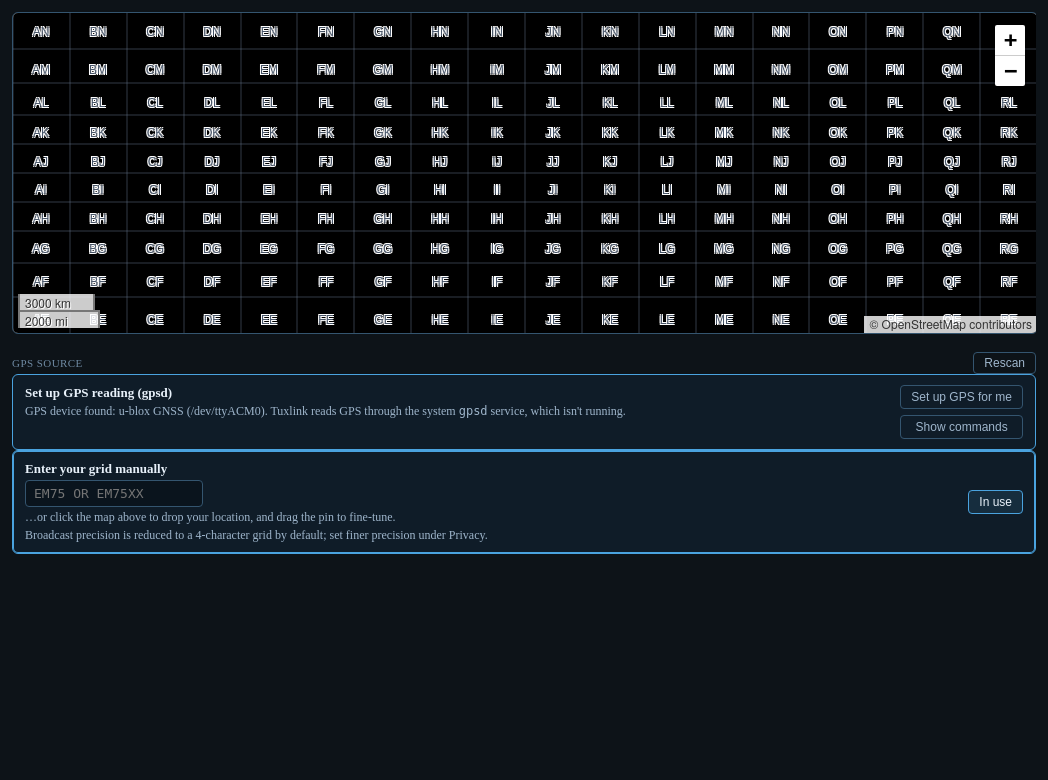
Scenario: GpsSourcePicker › one-click sets up gpsd via pkexec (apt + pkexec present) and rescans
Click the button with test id "gps-setup-run": (962, 397) [900, 385, 1023, 409]
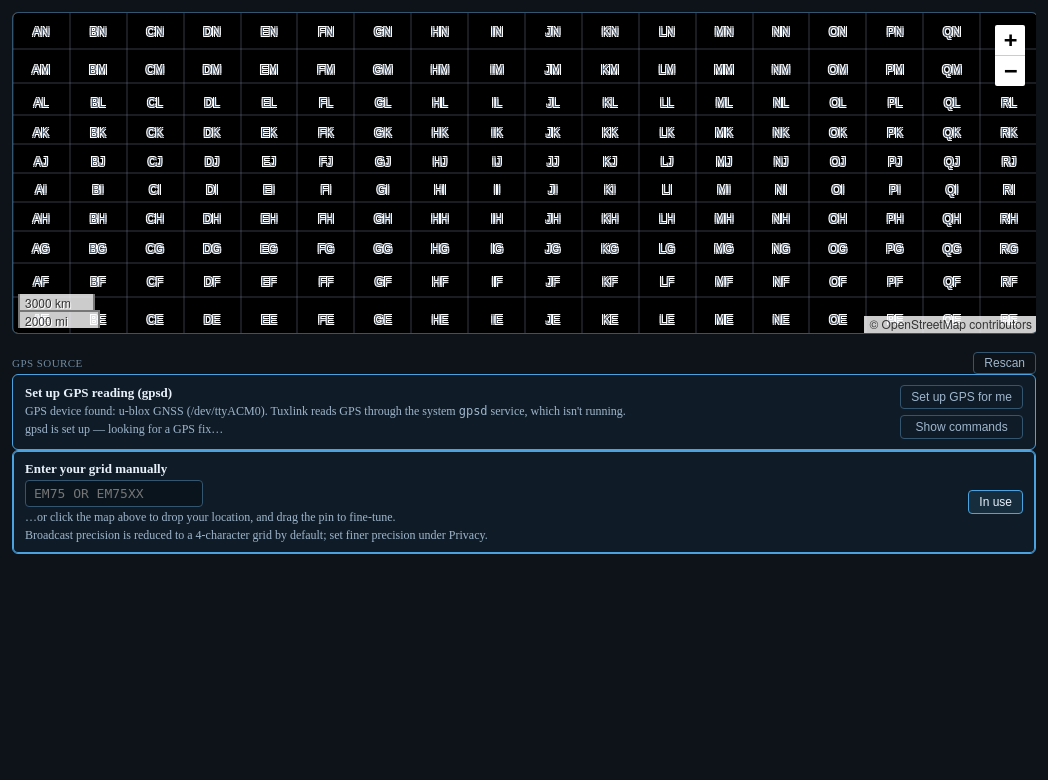
Now the message with test id "gps-setup-result" shows "looking for a GPS fix", box [25, 422, 223, 436]
